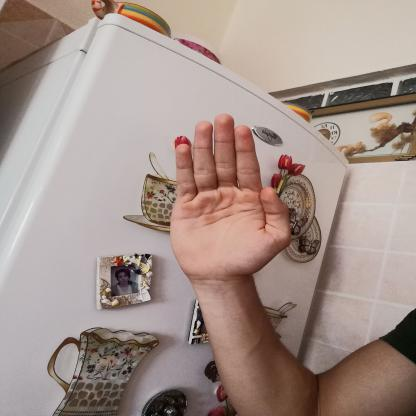SEEN: (156, 105, 303, 289)
